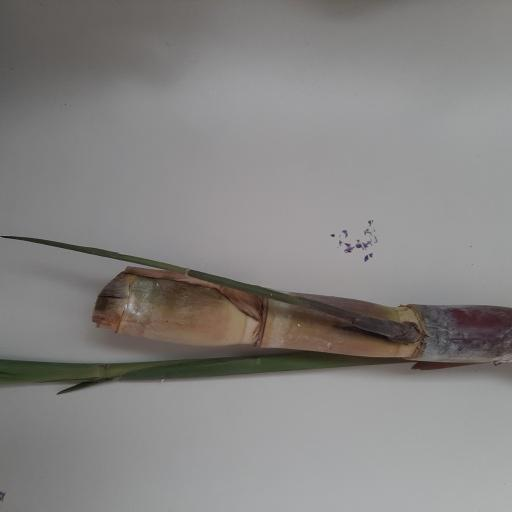Sprouted_Bud: (361, 318, 422, 346)
